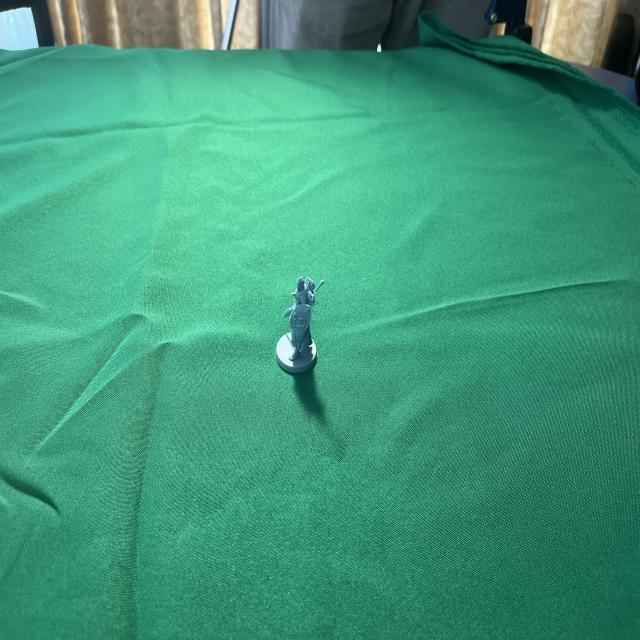isis_follower: (273, 271, 321, 377)
